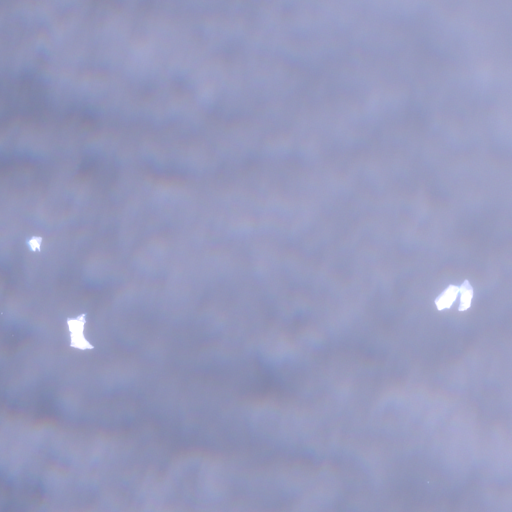Iceberg: (434, 279, 472, 310), (67, 313, 94, 349), (29, 236, 41, 251)
